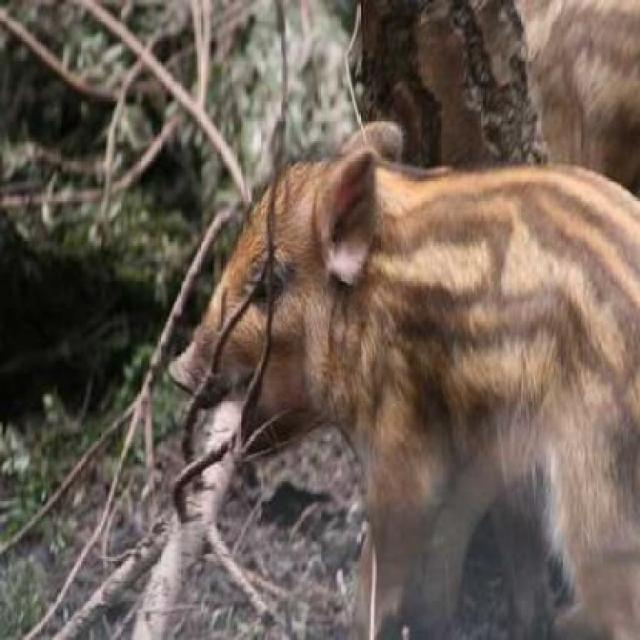pig: (143, 124, 639, 588)
